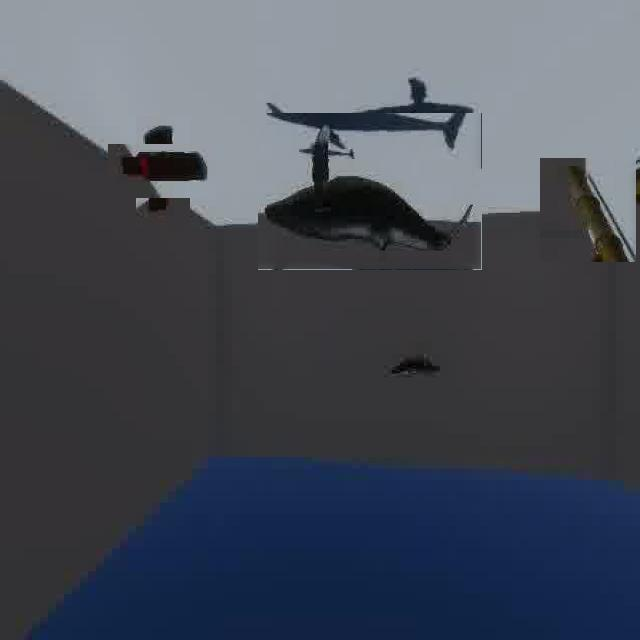Cylinder: (122, 130, 204, 212)
Pipe: (538, 160, 638, 260)
Whale: (258, 113, 482, 270), (385, 353, 450, 391)
